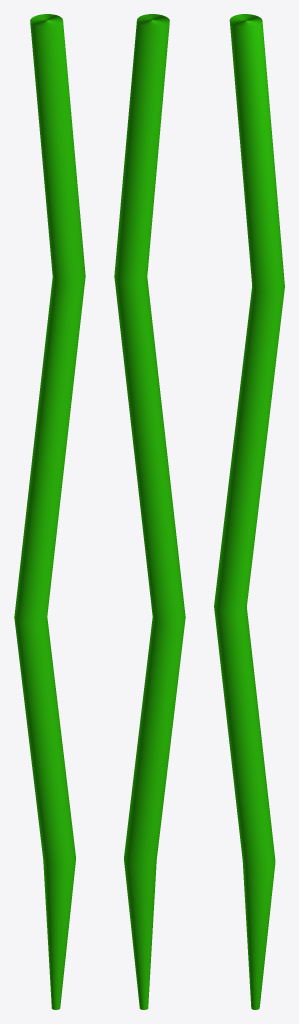
Rendered from Vine.fbx.
The picture shows the model from 3 angles, left to right: view 1: azimuth 30°, elevation 25°; view 2: azimuth 150°, elevation 25°; view 3: azimuth 330°, elevation 25°; orthographic projection.
Visible parts, largest first — view 1: Vine; view 2: Vine; view 3: Vine.
Boxes of the visible parts, x1,y1,x2,y2 form: Vine: (14,14,85,1009); Vine: (114,14,185,1009); Vine: (214,14,284,1009).
Bounding box in the file's own units: 30.83 × 433 × 12.48.
